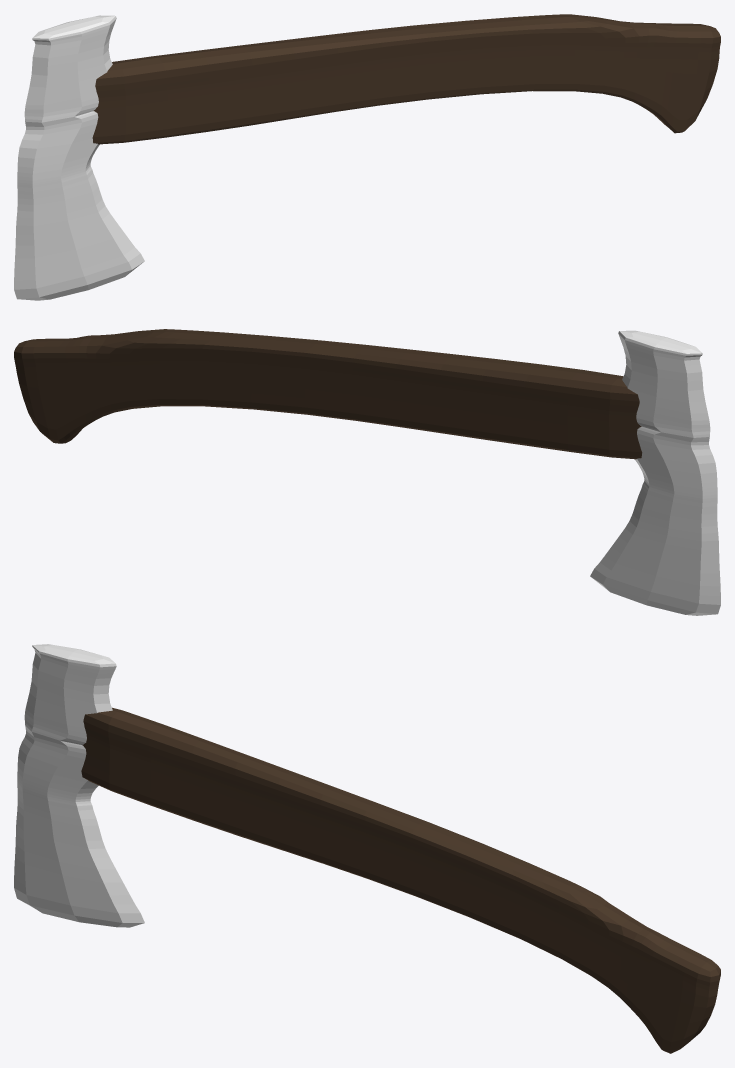
Rendered from hatchet.fbx.
The picture shows the model from 3 angles, top to bottom: view 1: azimuth 30°, elevation 25°; view 2: azimuth 150°, elevation 25°; view 3: azimuth 330°, elevation 25°; orthographic projection.
Parts seen in each view (by area): view 1: Cube.001, Cube; view 2: Cube.001, Cube; view 3: Cube.001, Cube.
Boxes of the visible parts, x1=… form: Cube.001: x1=92, y1=14, x2=720, y2=144; Cube: x1=14, y1=15, x2=144, y2=300; Cube.001: x1=14, y1=329, x2=642, y2=459; Cube: x1=590, y1=330, x2=720, y2=615; Cube.001: x1=81, y1=707, x2=720, y2=1053; Cube: x1=14, y1=644, x2=144, y2=927.
Size of the model in its own units: 981 by 355 by 41.09.
